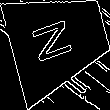N_E: (33, 15, 84, 67)
